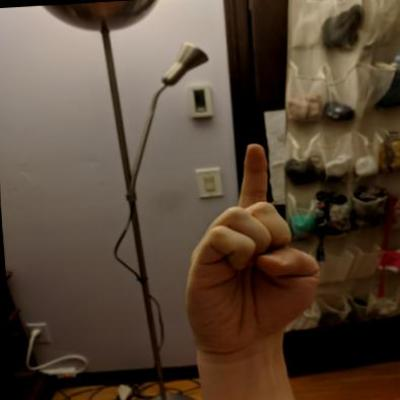hand: (166, 136, 330, 363)
